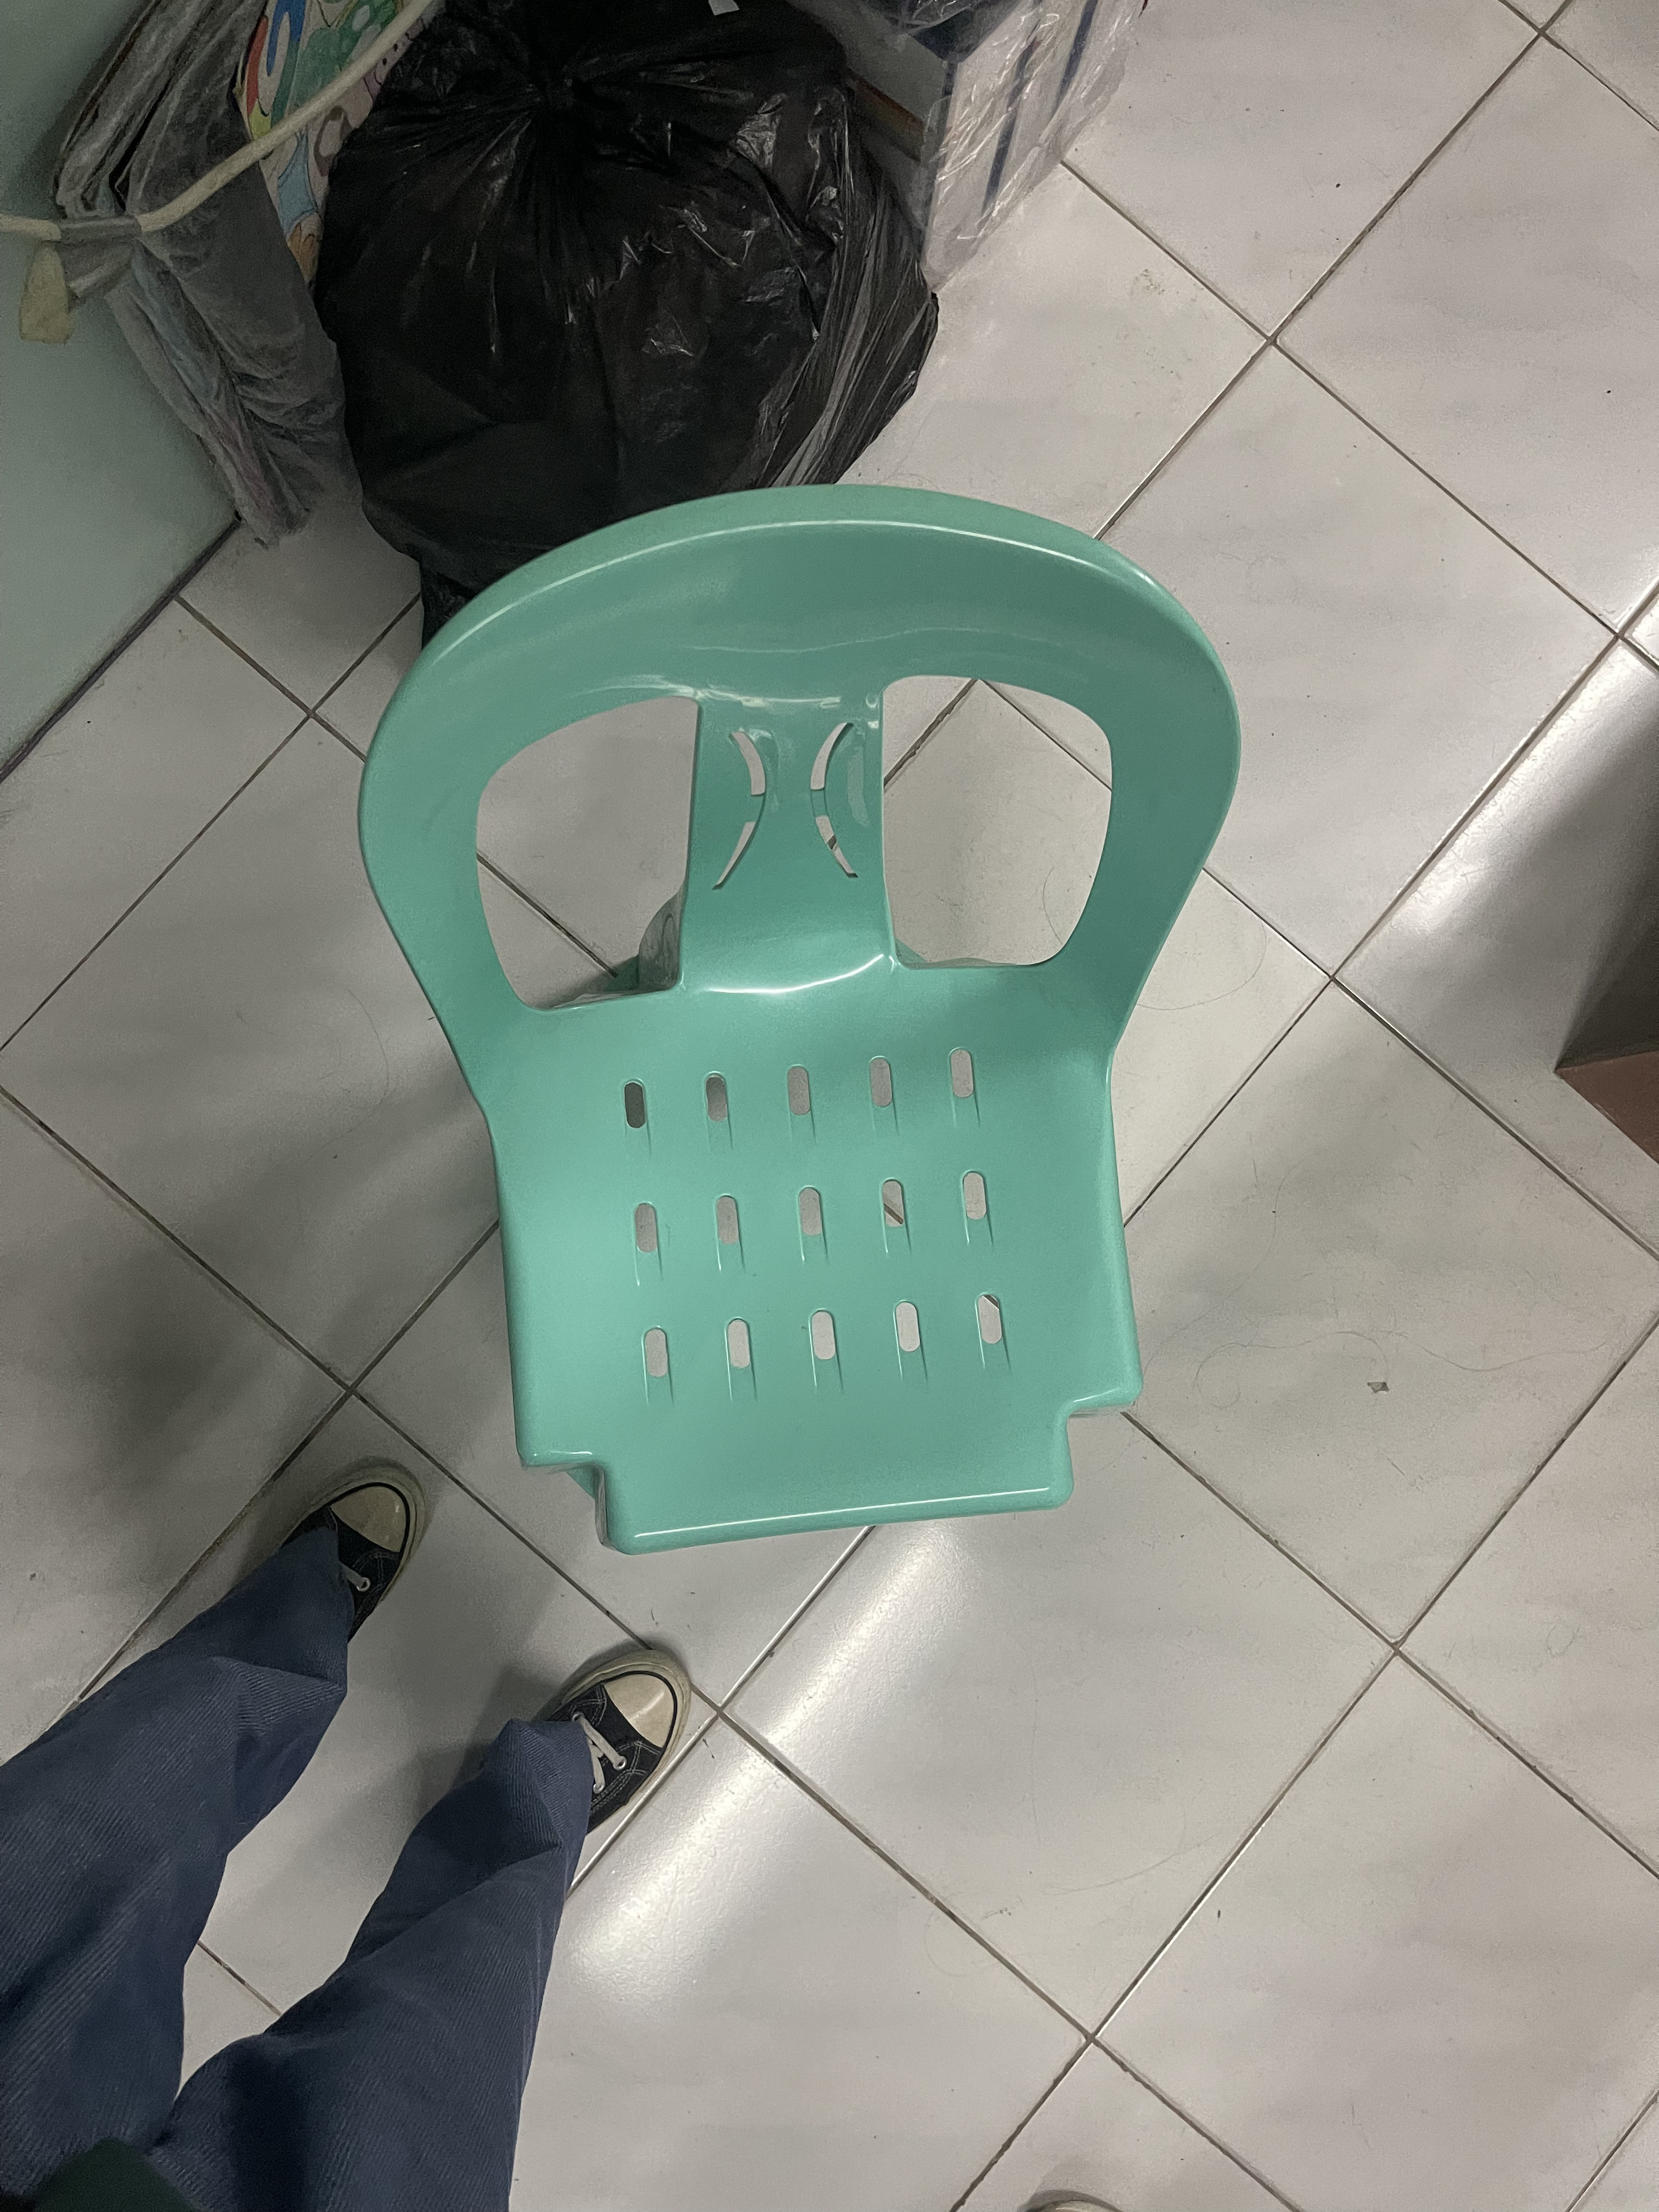chair2: (340, 472, 1269, 1608)
